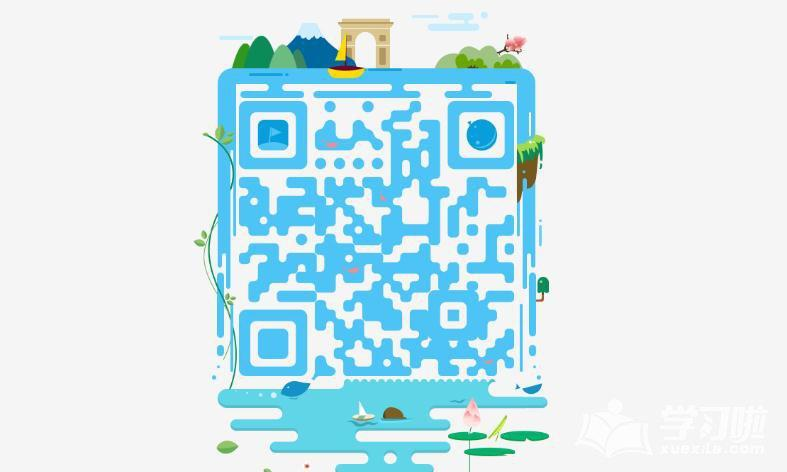QRCode: (234, 99, 520, 385)
